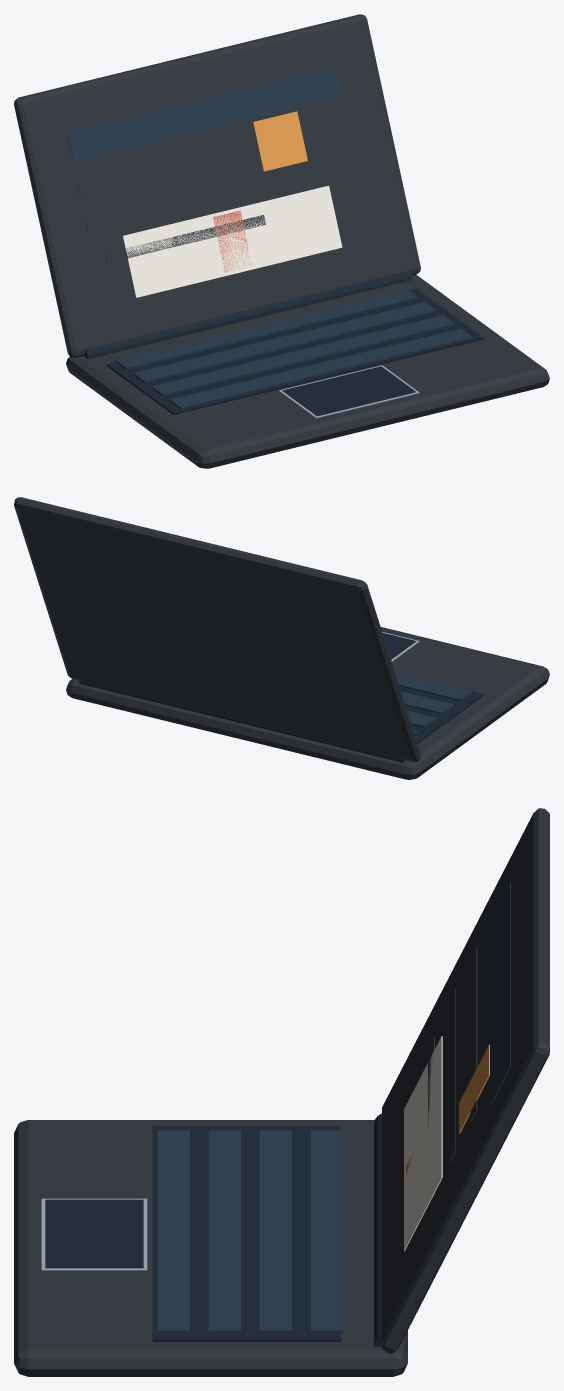
Rendered from Collectible_Laptop.glb.
3 views of the same model, one above another, from view 1: azimuth 30°, elevation 25°; view 2: azimuth 150°, elevation 25°; view 3: azimuth 270°, elevation 25° (orthographic). The views are drawn at different scales.
Parts seen in each view (by area): view 1: Collectible_Laptop; view 2: Collectible_Laptop; view 3: Collectible_Laptop.
Part boxes in pixels (x1,y1,x2,y2): Collectible_Laptop: [14, 14, 549, 468]; Collectible_Laptop: [14, 497, 549, 779]; Collectible_Laptop: [14, 808, 549, 1376].
Size of the model in its own units: 0.32 by 0.2065 by 0.2993.
